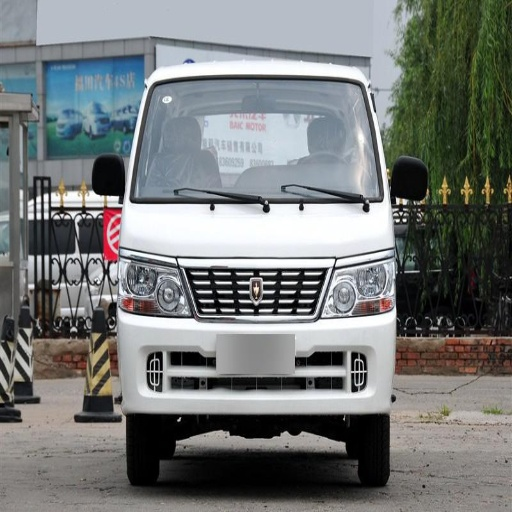front_bumper: (119, 257, 394, 413)
front_right_light: (119, 263, 185, 310)
hood: (113, 203, 392, 258)
left_mirror: (394, 157, 428, 203)
